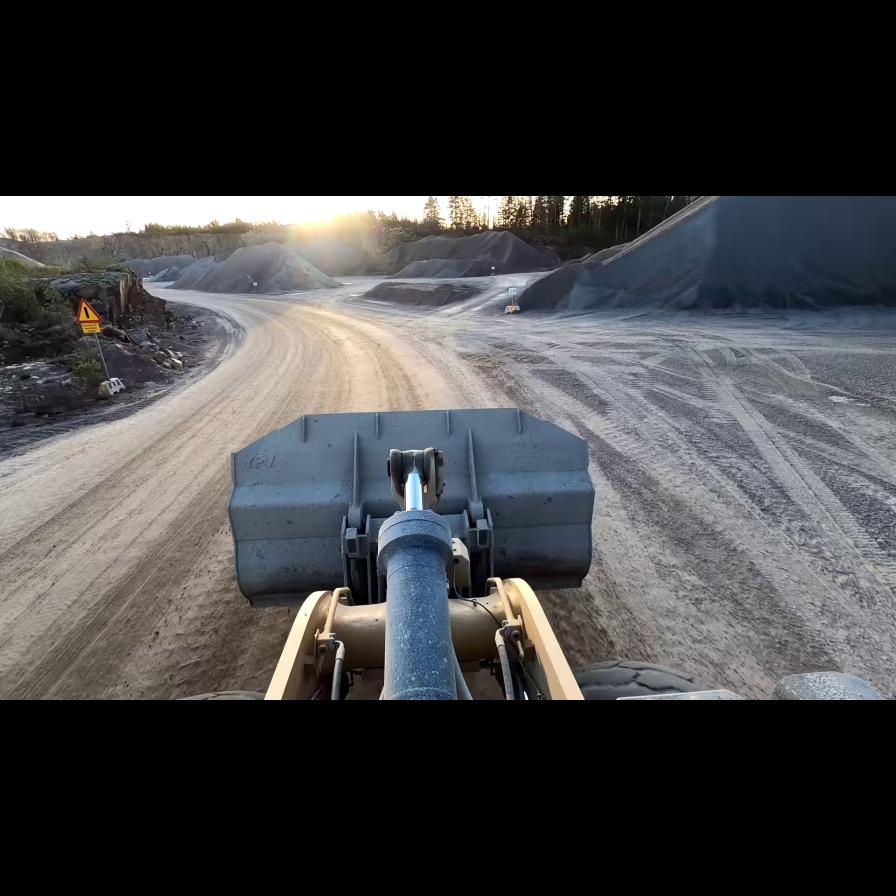anchor: (386, 447, 446, 511)
pile of gravel: (532, 197, 886, 313), (356, 228, 560, 274), (181, 241, 333, 293), (504, 260, 607, 311), (354, 280, 490, 308), (386, 257, 483, 279), (126, 254, 200, 280), (166, 255, 221, 289)
